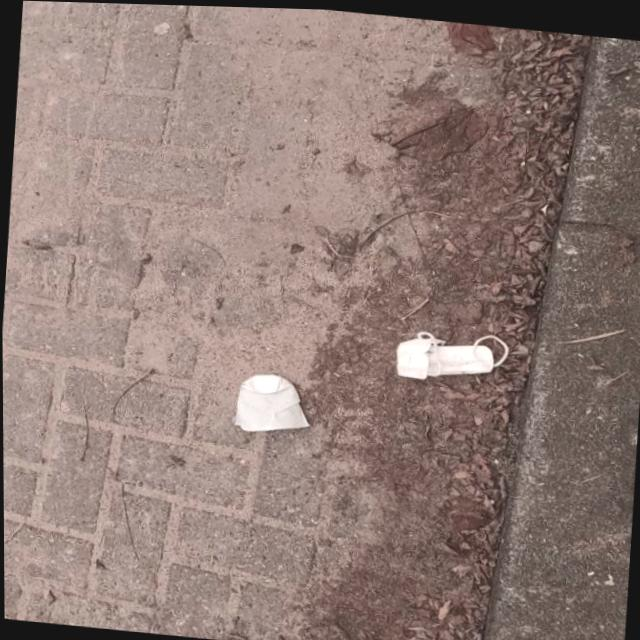Cup: (228, 367, 313, 436)
Mask: (390, 321, 509, 386)
